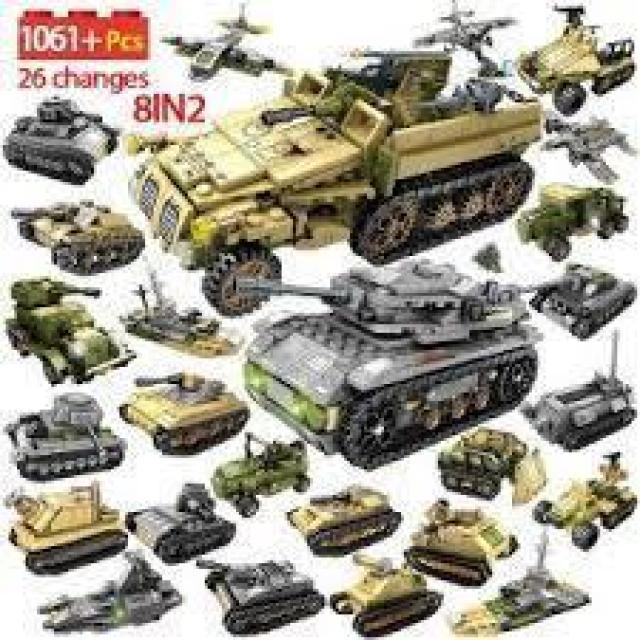MIL_MBT: (129, 60, 530, 282), (250, 240, 518, 462), (9, 272, 114, 377), (131, 368, 245, 451), (23, 191, 137, 270), (3, 101, 108, 181), (523, 186, 629, 263), (7, 401, 115, 475), (9, 488, 125, 556), (209, 556, 314, 630), (533, 370, 636, 444), (536, 14, 627, 97), (418, 495, 512, 575), (343, 559, 439, 636), (51, 575, 182, 629), (132, 482, 223, 556), (546, 472, 629, 552), (538, 270, 629, 341), (137, 293, 239, 356), (302, 481, 390, 552), (218, 454, 306, 519), (445, 434, 528, 502)
